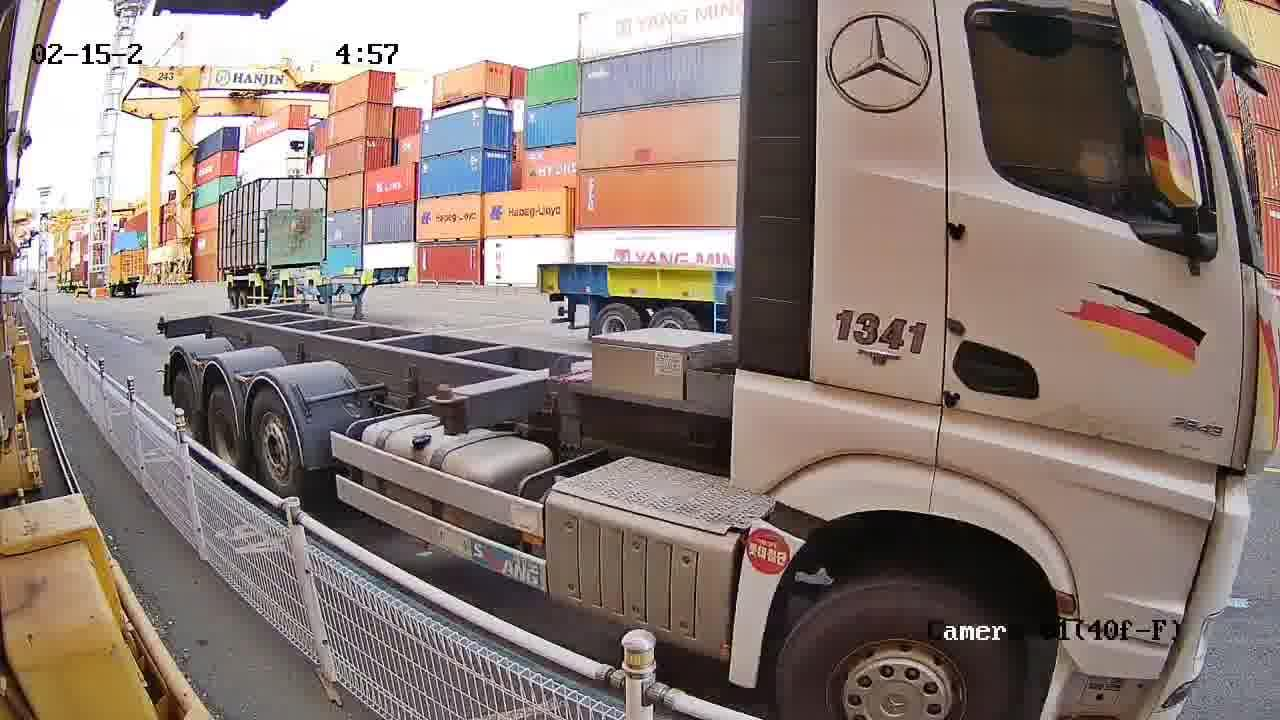Chassis: (459, 356, 594, 427)
Cone: (420, 380, 471, 435)
Tire: (775, 587, 1014, 719), (247, 387, 301, 492), (206, 391, 238, 459), (168, 370, 197, 411)
